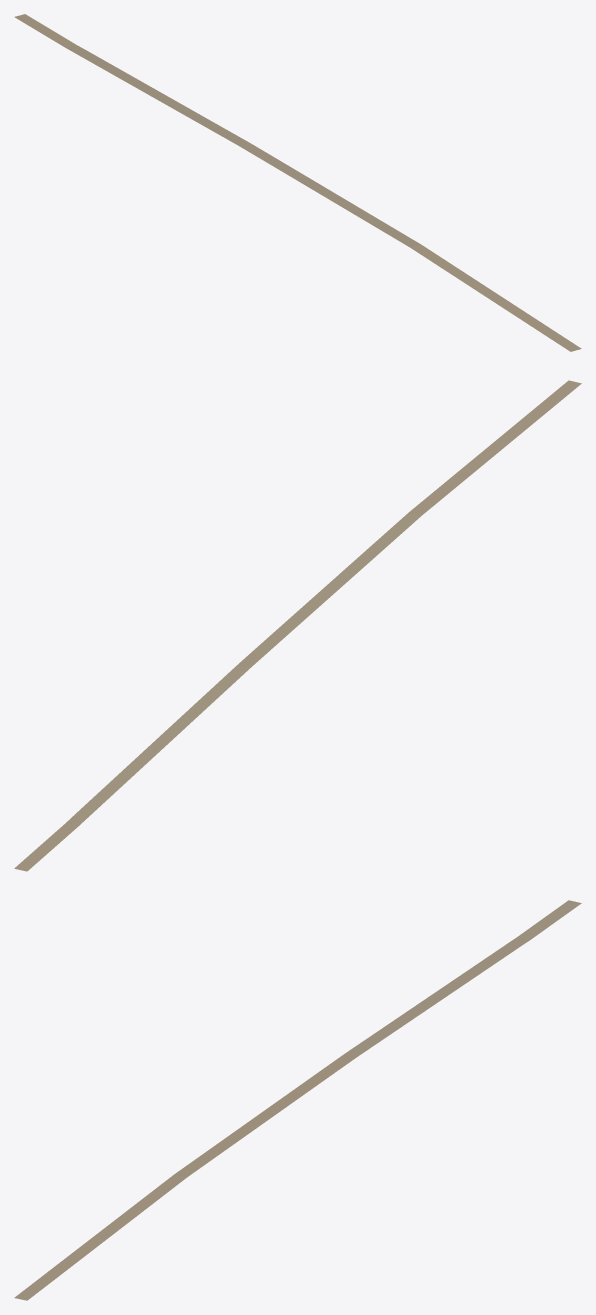
Rendered from farm_7_17_track.glb.
The picture shows the model from 3 angles, top to bottom: view 1: azimuth 30°, elevation 25°; view 2: azimuth 150°, elevation 25°; view 3: azimuth 330°, elevation 25°; orthographic projection. The views are drawn at different scales.
Parts seen in each view (by area): view 1: geometry_0; view 2: geometry_0; view 3: geometry_0.
Part boxes in pixels (x1,y1,x2,y2): geometry_0: [14, 14, 581, 351]; geometry_0: [14, 380, 581, 871]; geometry_0: [14, 900, 581, 1300].
Bounding box in the file's own units: 12.82 × 10.93 × 259.
